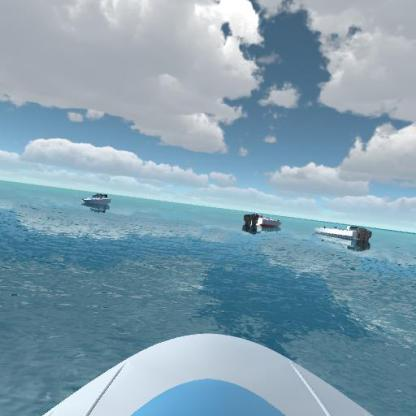usv1: (309, 217, 376, 250), (78, 187, 116, 211)
usv3: (242, 204, 286, 233)
